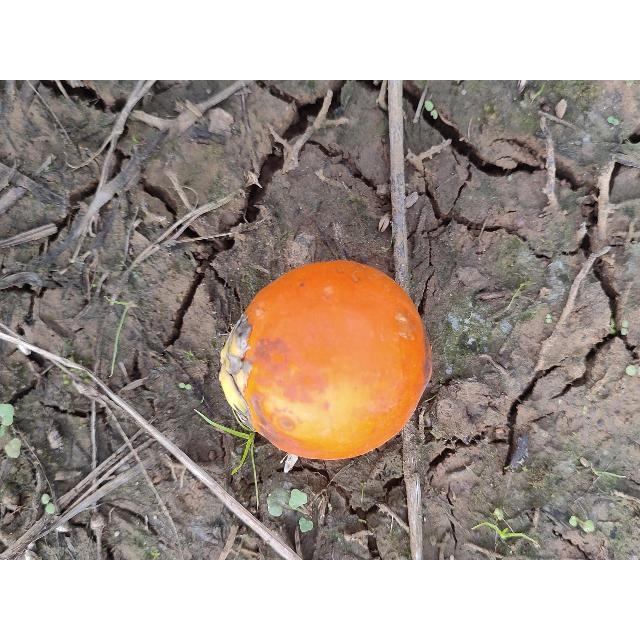good: (222, 260, 432, 461)
